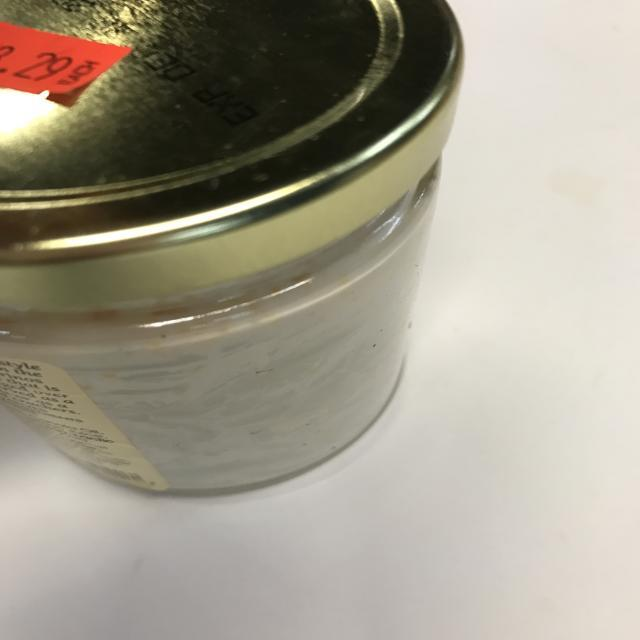glass: (2, 1, 466, 488)
